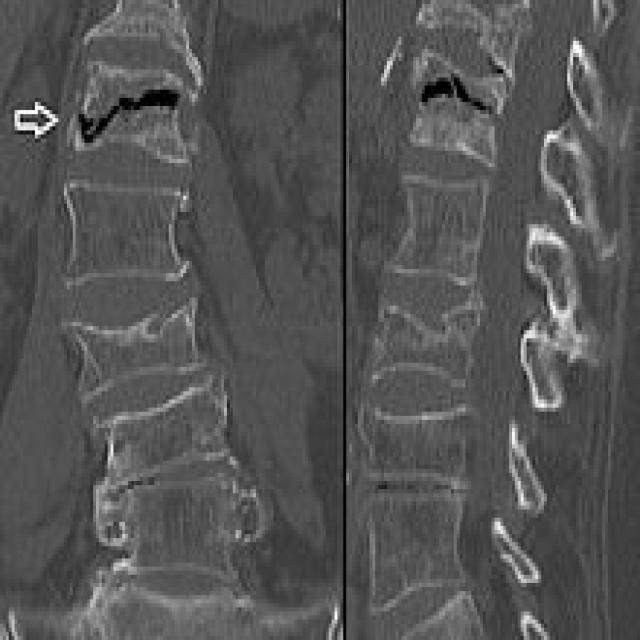fracture: (18, 46, 211, 221), (373, 20, 517, 156)
